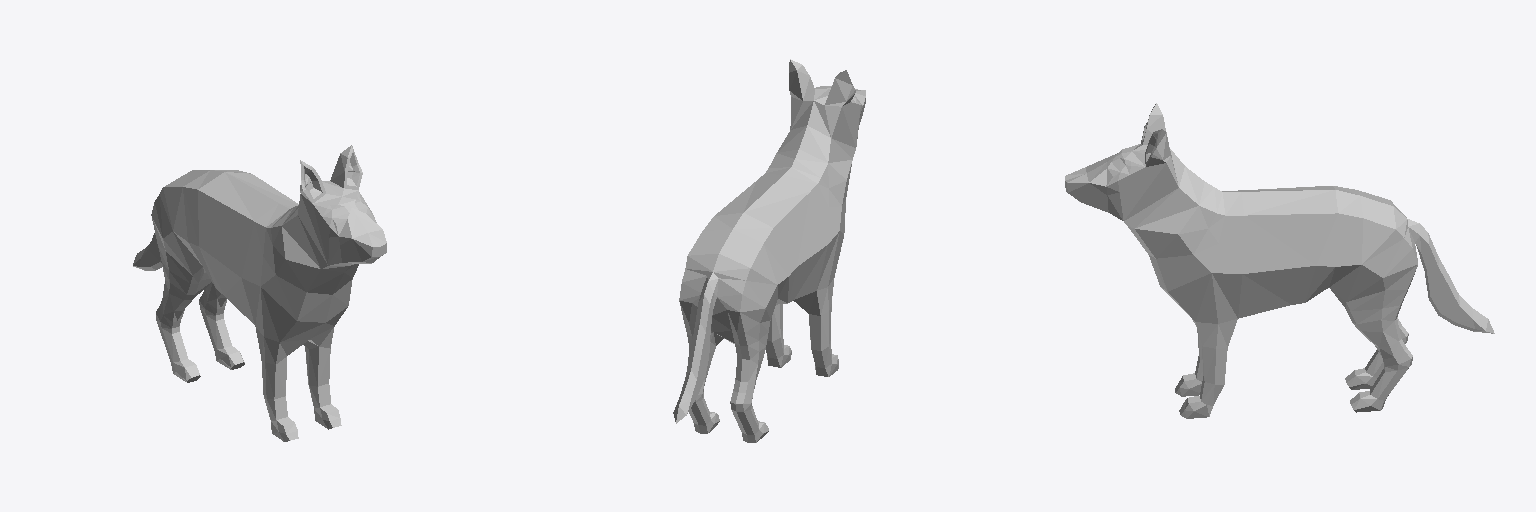
The model's file is Dog.obj.
The picture shows the model from 3 angles: view 1: azimuth 30°, elevation 25°; view 2: azimuth 150°, elevation 25°; view 3: azimuth 270°, elevation 25°; orthographic projection.
Parts seen in each view (by area): view 1: Plane; view 2: Plane; view 3: Plane.
Boxes of the visible parts, x1,y1,x2,y2 form: Plane: [133, 145, 386, 441]; Plane: [673, 59, 865, 442]; Plane: [1065, 103, 1494, 418].
Size of the model in its own units: 2.27 by 6.8 by 9.13.